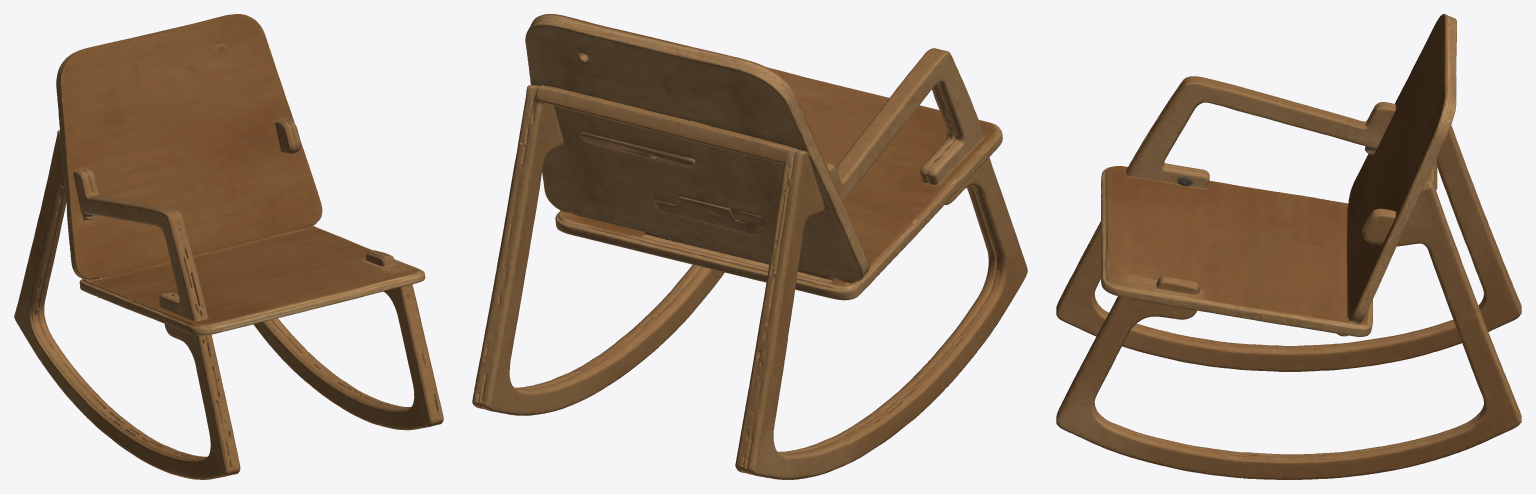
The model's file is Modern Plywood Rocking Chair 3D Model.glb.
3 renders of one model, left to right at view 1: azimuth 30°, elevation 25°; view 2: azimuth 150°, elevation 25°; view 3: azimuth 270°, elevation 25°, orthographic. The views are drawn at different scales.
Visible parts, largest first — view 1: world; view 2: world; view 3: world.
Part boxes in pixels (x1,y1,x2,y2): world: (14, 14, 443, 479); world: (472, 14, 1027, 479); world: (1056, 14, 1521, 479).
Size of the model in its own units: 0.6676 by 0.874 by 1.
Materials: 1 (1 with a texture image).
